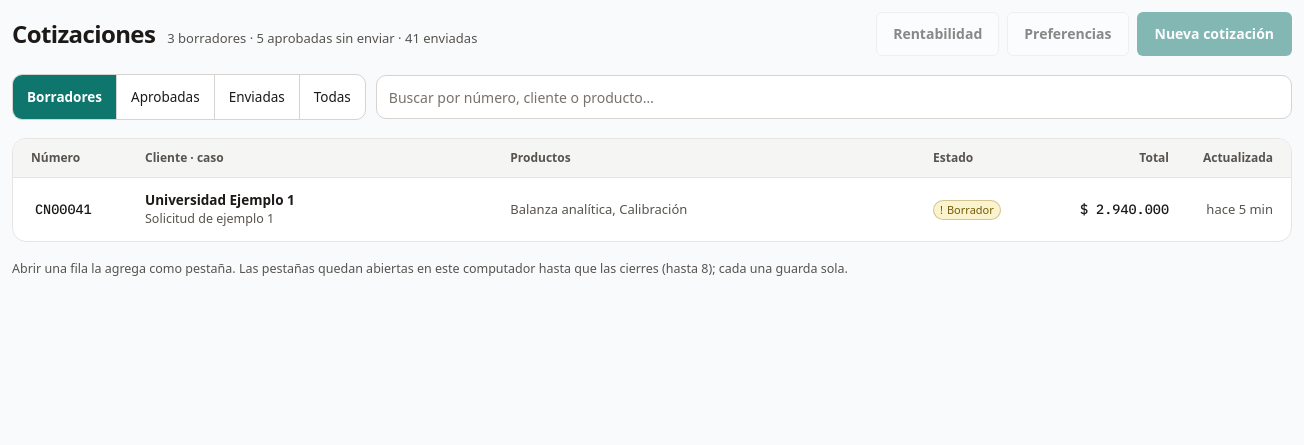
it: QuoteListPane › late answers that must not land (a transport that ignores abort) › a stale search answer arriving after the newer search's does not replace it
Type "bal" into the search field labelled "Buscar".
click(834, 97); type("bal")  # box [376,75,1292,119]
Wait 300 ms
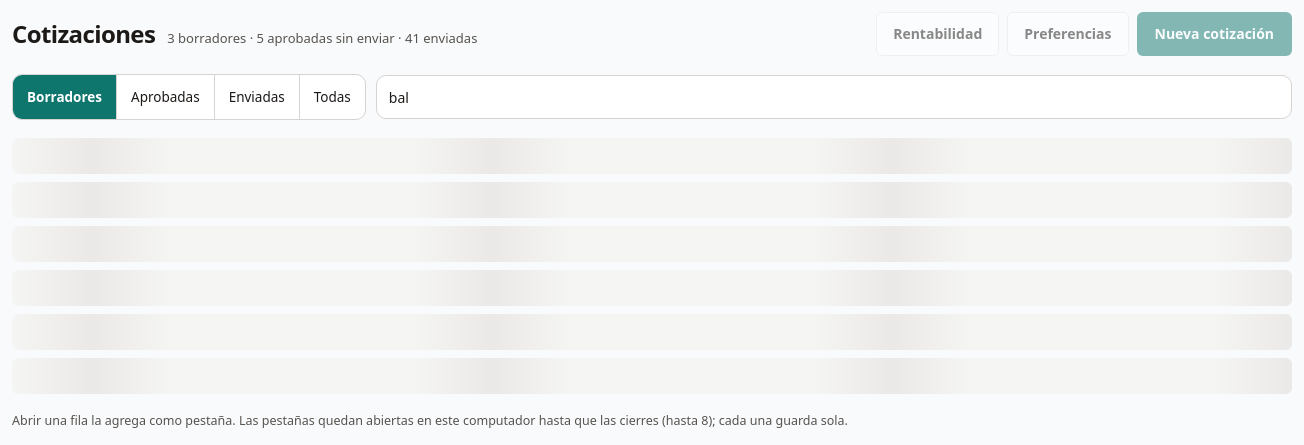
Replace the text in the search field named "Buscar" with "balanza" at (834, 97), box [376,75,1292,119]
Wait 300 ms
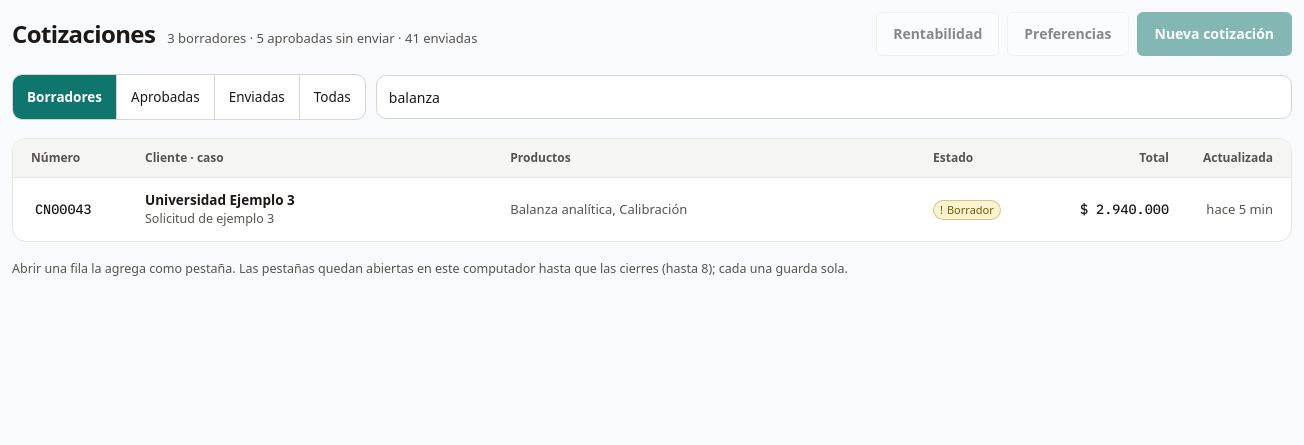
Check: the button "CN00043" is shown, box [31,188,96,232]
